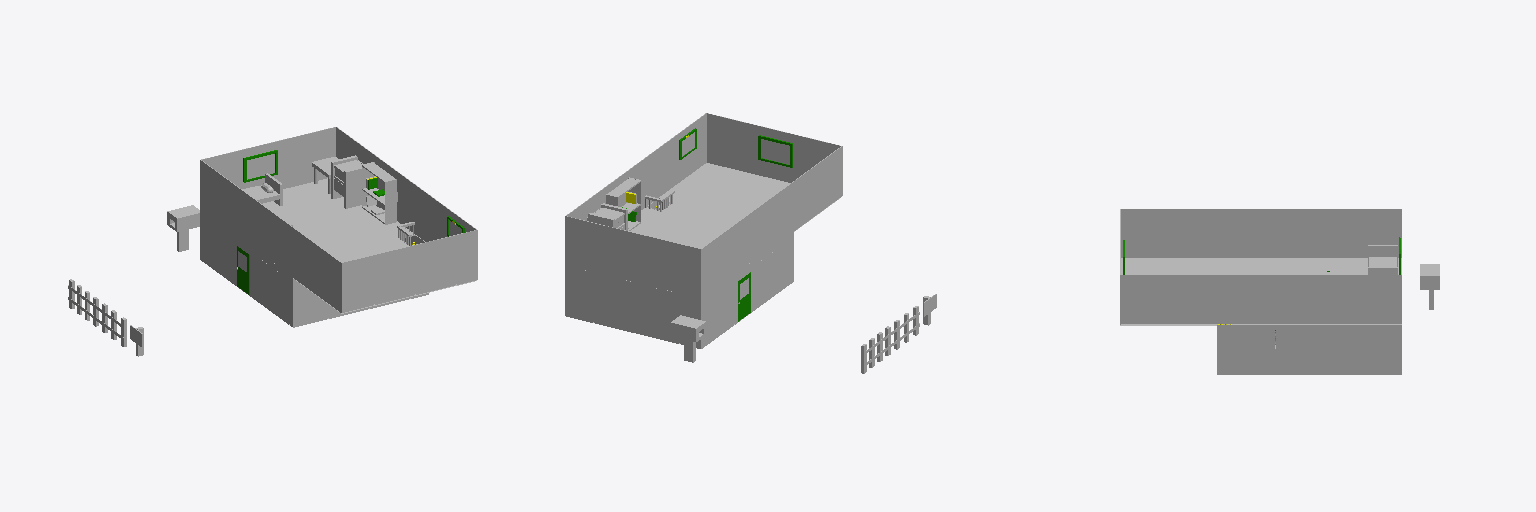
3 views of the same model, side by side, from view 1: azimuth 30°, elevation 25°; view 2: azimuth 150°, elevation 25°; view 3: azimuth 270°, elevation 25° (orthographic).
Parts seen in each view (by area): view 1: Box026, Box027, Box019, Box025, Box005, Box028, Plane009, Box051, Box004, Box052, Box086, Box033 (+1 smaller); view 2: Box025, Box019, Box003, Box027, Box026, Box028, Box005, Box051, Box053, Box086, Plane009; view 3: Box028, Box027, Box006, Box019, Box051, Box008.
Part boxes in pixels (bbox=[...]): Box026: bbox=[341, 230, 477, 312]; Box027: bbox=[201, 160, 341, 311]; Box019: bbox=[200, 178, 477, 312]; Box025: bbox=[200, 127, 335, 208]; Box005: bbox=[201, 211, 292, 326]; Box028: bbox=[336, 127, 476, 241]; Plane009: bbox=[279, 205, 361, 244]; Box051: bbox=[240, 199, 288, 263]; Box004: bbox=[293, 279, 428, 326]; Box052: bbox=[243, 150, 277, 182]; Box086: bbox=[167, 205, 199, 231]; Box033: bbox=[344, 167, 361, 208]; Box025: bbox=[565, 216, 701, 298]; Box019: bbox=[566, 163, 842, 298]; Box003: bbox=[565, 266, 701, 348]; Box027: bbox=[702, 146, 841, 297]; Box026: bbox=[707, 113, 842, 194]; Box028: bbox=[566, 113, 706, 220]; Box005: bbox=[702, 232, 793, 347]; Box051: bbox=[741, 195, 789, 259]; Box053: bbox=[758, 135, 792, 167]; Box086: bbox=[671, 315, 705, 341]; Plane009: bbox=[658, 227, 714, 248]; Box028: bbox=[1121, 275, 1401, 323]; Box027: bbox=[1121, 209, 1401, 257]; Box006: bbox=[1218, 325, 1401, 374]; Box019: bbox=[1121, 258, 1401, 324]; Box051: bbox=[1224, 219, 1323, 248]; Box008: bbox=[1276, 330, 1311, 348].
Size of the model in its own units: 640 by 216 by 626.
Materials: 26 (1 with a texture image).